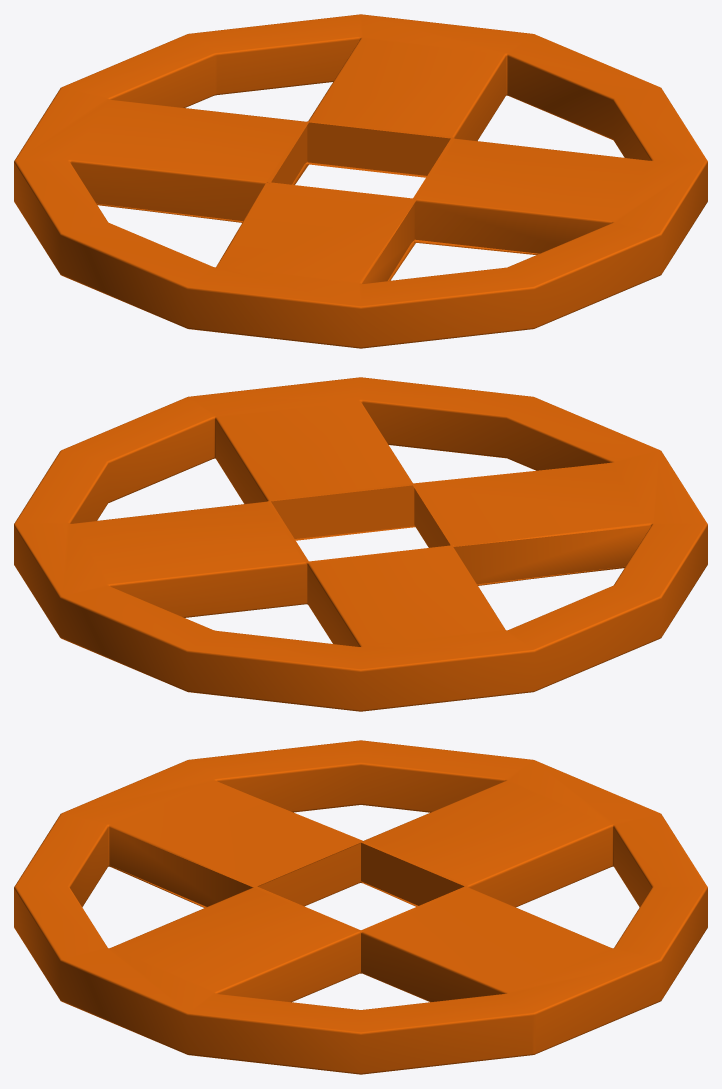
File: target.fbx
3 renders of one model, top to bottom at view 1: azimuth 30°, elevation 25°; view 2: azimuth 150°, elevation 25°; view 3: azimuth 270°, elevation 25°, orthographic.
Parts seen in each view (by area): view 1: Target; view 2: Target; view 3: Target.
Boxes of the visible parts, x1,y1,x2,y2 form: Target: (14, 14, 707, 348); Target: (14, 377, 707, 711); Target: (14, 740, 707, 1074).
Size of the model in its own units: 2 by 0.1337 by 2.
